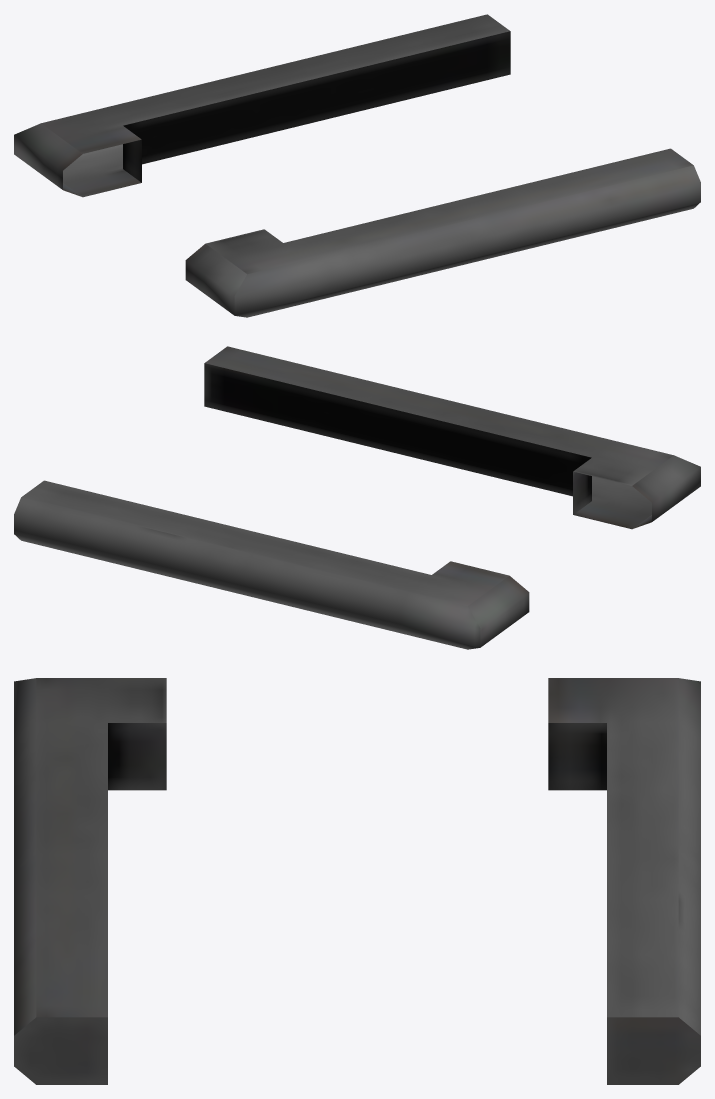
Rendered from P_Door_H.fbx.
The picture shows the model from 3 angles, top to bottom: view 1: azimuth 30°, elevation 25°; view 2: azimuth 150°, elevation 25°; view 3: azimuth 270°, elevation 25°; orthographic projection. The views are drawn at different scales.
Visible parts, largest first — view 1: P_Door_H; view 2: P_Door_H; view 3: P_Door_H.
Boxes of the visible parts, x1=… form: P_Door_H: x1=14, y1=14, x2=700, y2=317; P_Door_H: x1=14, y1=346, x2=700, y2=649; P_Door_H: x1=14, y1=678, x2=700, y2=1084.
Bounding box in the file's own units: 27.9 × 2.48 × 22.85.
1 material, 1 textured.
